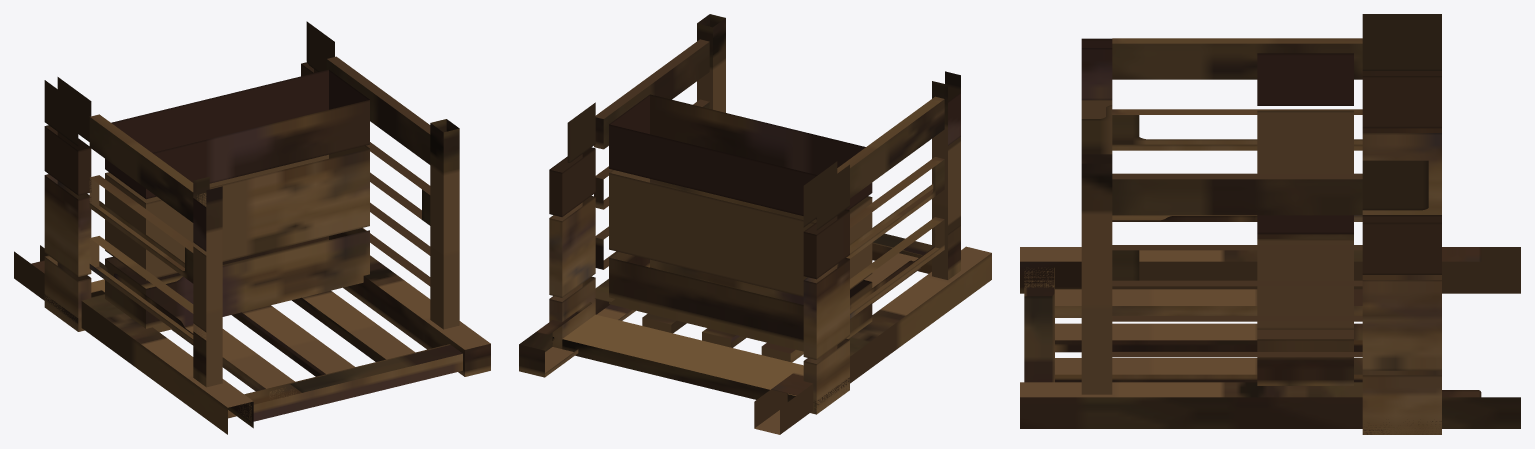
Rendered from section-3.obj.
3 views of the same model, side by side, from view 1: azimuth 30°, elevation 25°; view 2: azimuth 150°, elevation 25°; view 3: azimuth 270°, elevation 25° (orthographic). The views are drawn at different scales.
Bounding box in the file's own units: 0.83 × 0.67 × 1.14.
